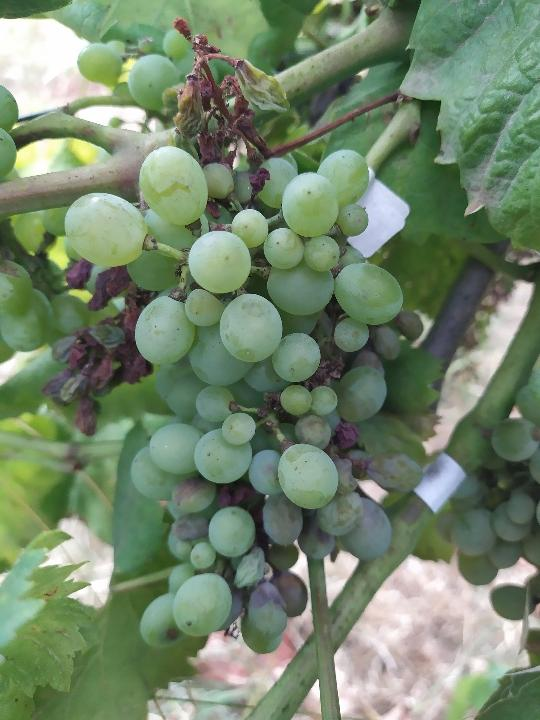grape: (34, 46, 426, 658)
